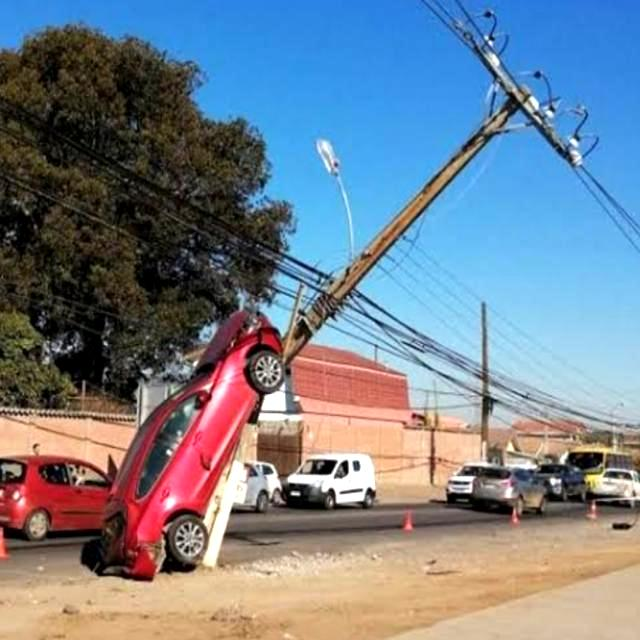Broken Pole: (198, 6, 613, 565)
